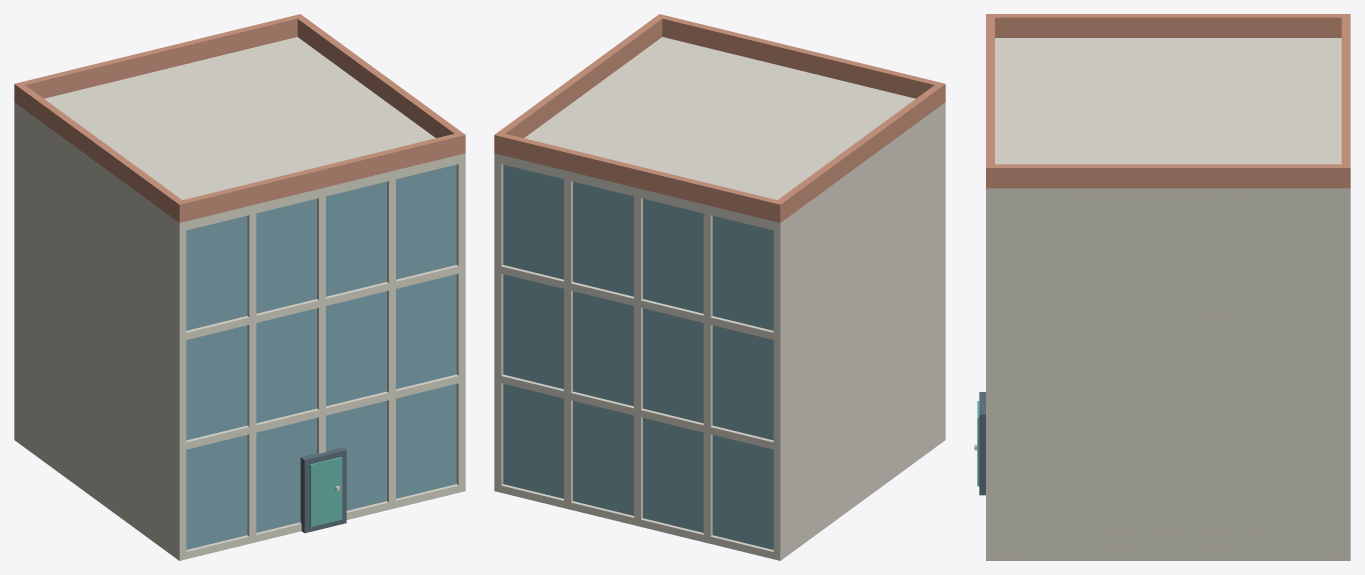
Rendered from vCasino.glb.
The picture shows the model from 3 angles, left to right: view 1: azimuth 30°, elevation 25°; view 2: azimuth 150°, elevation 25°; view 3: azimuth 270°, elevation 25°; orthographic projection. The views are drawn at different scales.
Parts seen in each view (by area): view 1: glass-atrium-concrete, glass-atrium-glass, glass-atrium-brick, glass-atrium-accent, glass-atrium-dark; view 2: glass-atrium-concrete, glass-atrium-glass, glass-atrium-brick; view 3: glass-atrium-concrete, glass-atrium-brick, glass-atrium-dark.
Part boxes in pixels (x1,y1,x2,y2): glass-atrium-concrete: (14, 37, 465, 560); glass-atrium-glass: (186, 164, 456, 549); glass-atrium-brick: (14, 14, 465, 222); glass-atrium-accent: (310, 457, 342, 526); glass-atrium-dark: (300, 447, 346, 533); glass-atrium-concrete: (494, 37, 945, 560); glass-atrium-glass: (503, 164, 773, 549); glass-atrium-brick: (494, 14, 945, 222); glass-atrium-concrete: (974, 38, 1350, 560); glass-atrium-brick: (986, 14, 1350, 188); glass-atrium-dark: (979, 392, 985, 495).
Size of the model in its own units: 8.2 by 9.75 by 8.46.
